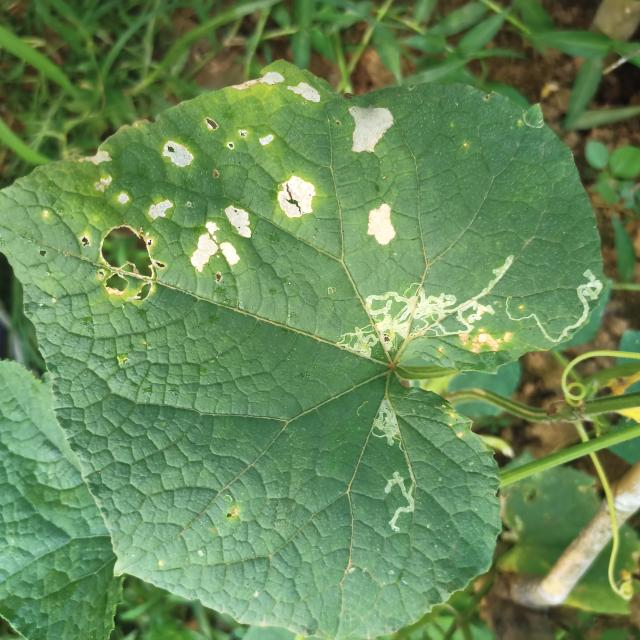disease_cucumber: (73, 70, 327, 317), (352, 195, 415, 253), (347, 102, 402, 158)
